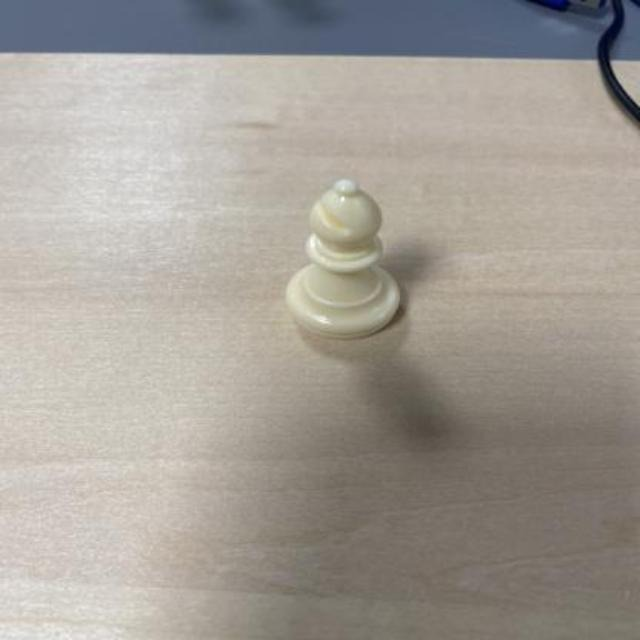white-bishop: (284, 179, 402, 339)
